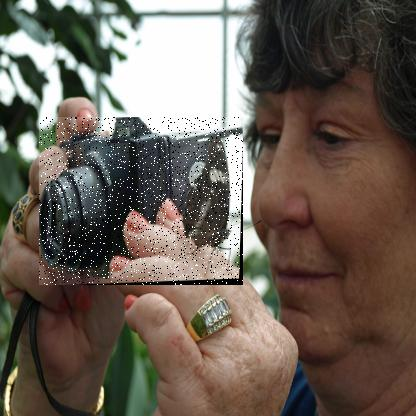Camera: (40, 118, 245, 287)
